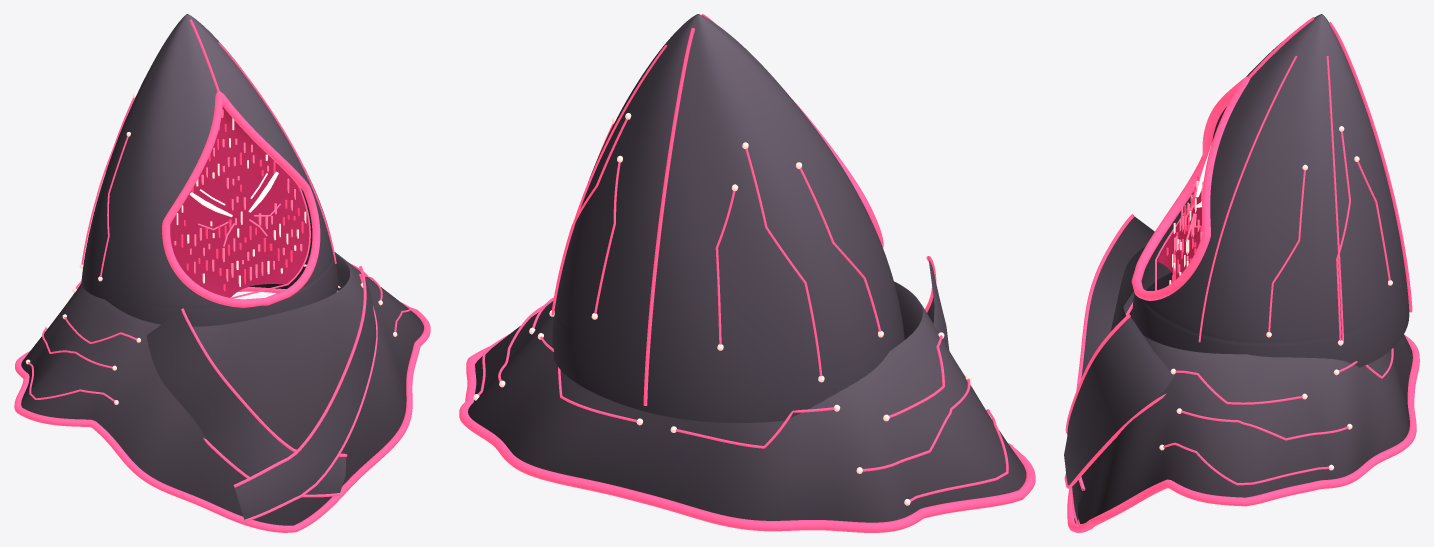
Rendered from hooded_figure.glb.
3 views of the same model, side by side, from view 1: azimuth 30°, elevation 25°; view 2: azimuth 150°, elevation 25°; view 3: azimuth 270°, elevation 25° (orthographic). The views are drawn at different scales.
Visible parts, largest first — view 1: HoodedFigure; view 2: HoodedFigure; view 3: HoodedFigure.
Boxes of the visible parts, x1,y1,x2,y2 form: HoodedFigure: [14, 14, 430, 532]; HoodedFigure: [459, 14, 1035, 532]; HoodedFigure: [1064, 14, 1419, 532].
Bounding box in the file's own units: 3.72 × 3.88 × 2.44.
